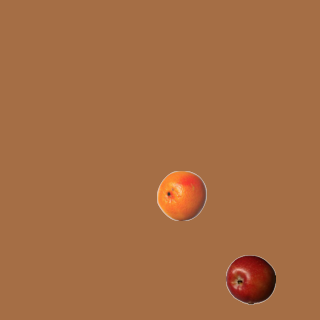Apple Braeburn: (225, 254, 275, 304)
Grapefruit Pink: (156, 170, 206, 220)
